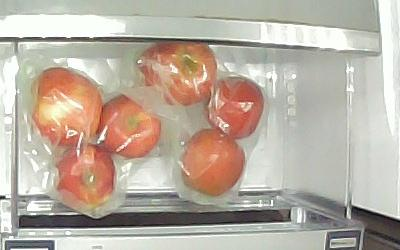apple_vinyl: (29, 67, 101, 146), (136, 43, 218, 105), (180, 129, 247, 198), (103, 93, 162, 159), (55, 146, 117, 206), (208, 76, 266, 140)
